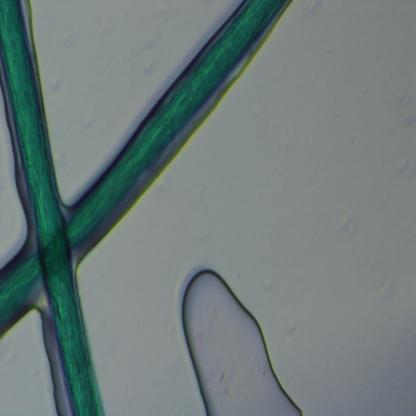Air bubble: (180, 267, 306, 415)
Microfibre: (0, 0, 292, 337), (0, 0, 105, 416)
